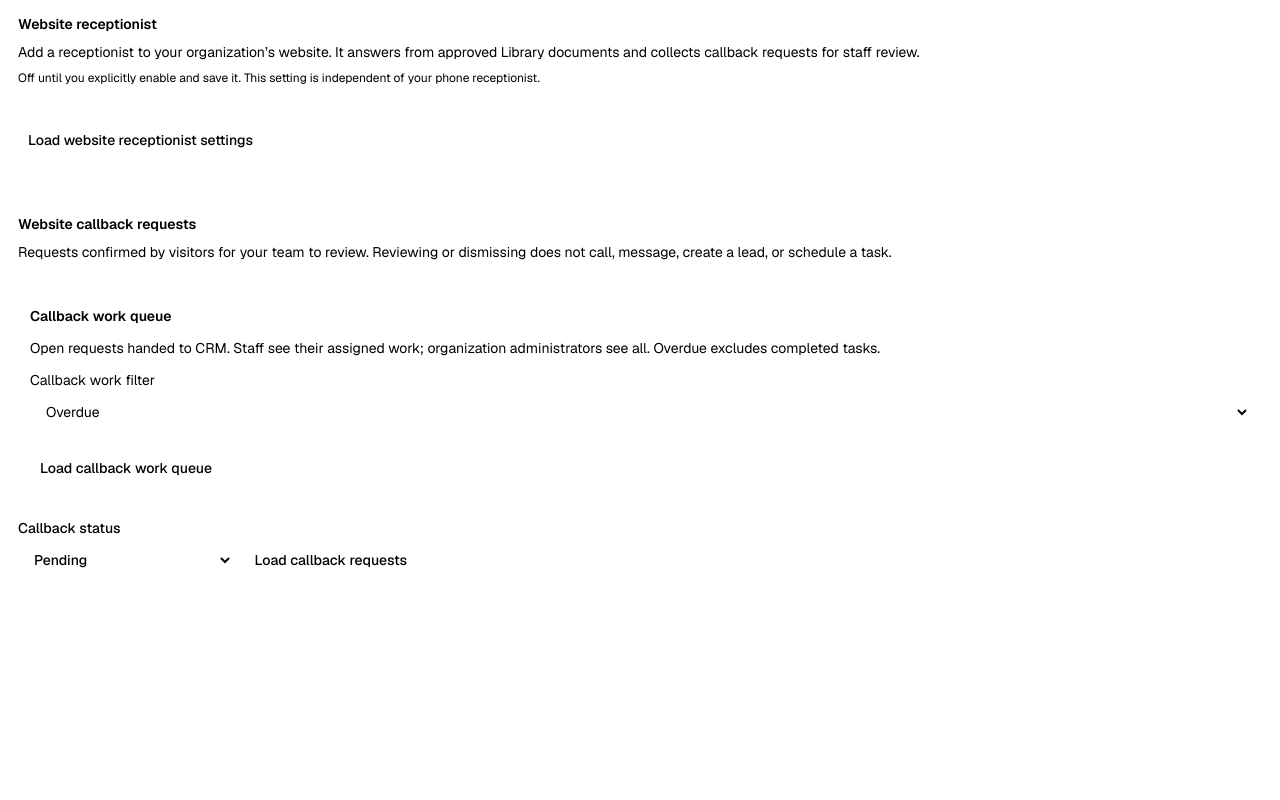
Test: WebsiteReceptionistSettings › shows readiness and cannot enable without saved organization prerequisites
Click the button "Load website receptionist settings".
click(140, 140)  # box [18, 118, 263, 162]
(page scrolled)
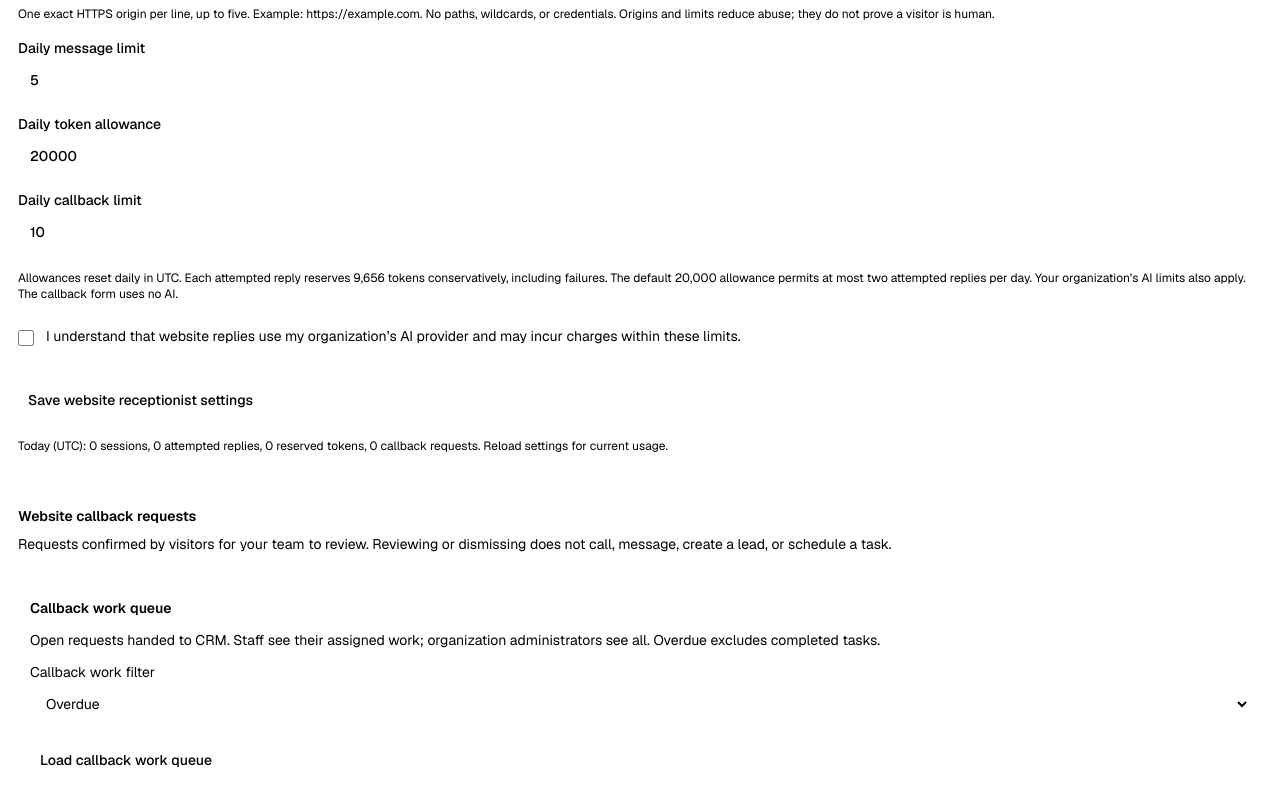
Expected: the button "Save website receptionist settings" is enabled, [18, 378, 263, 422]
